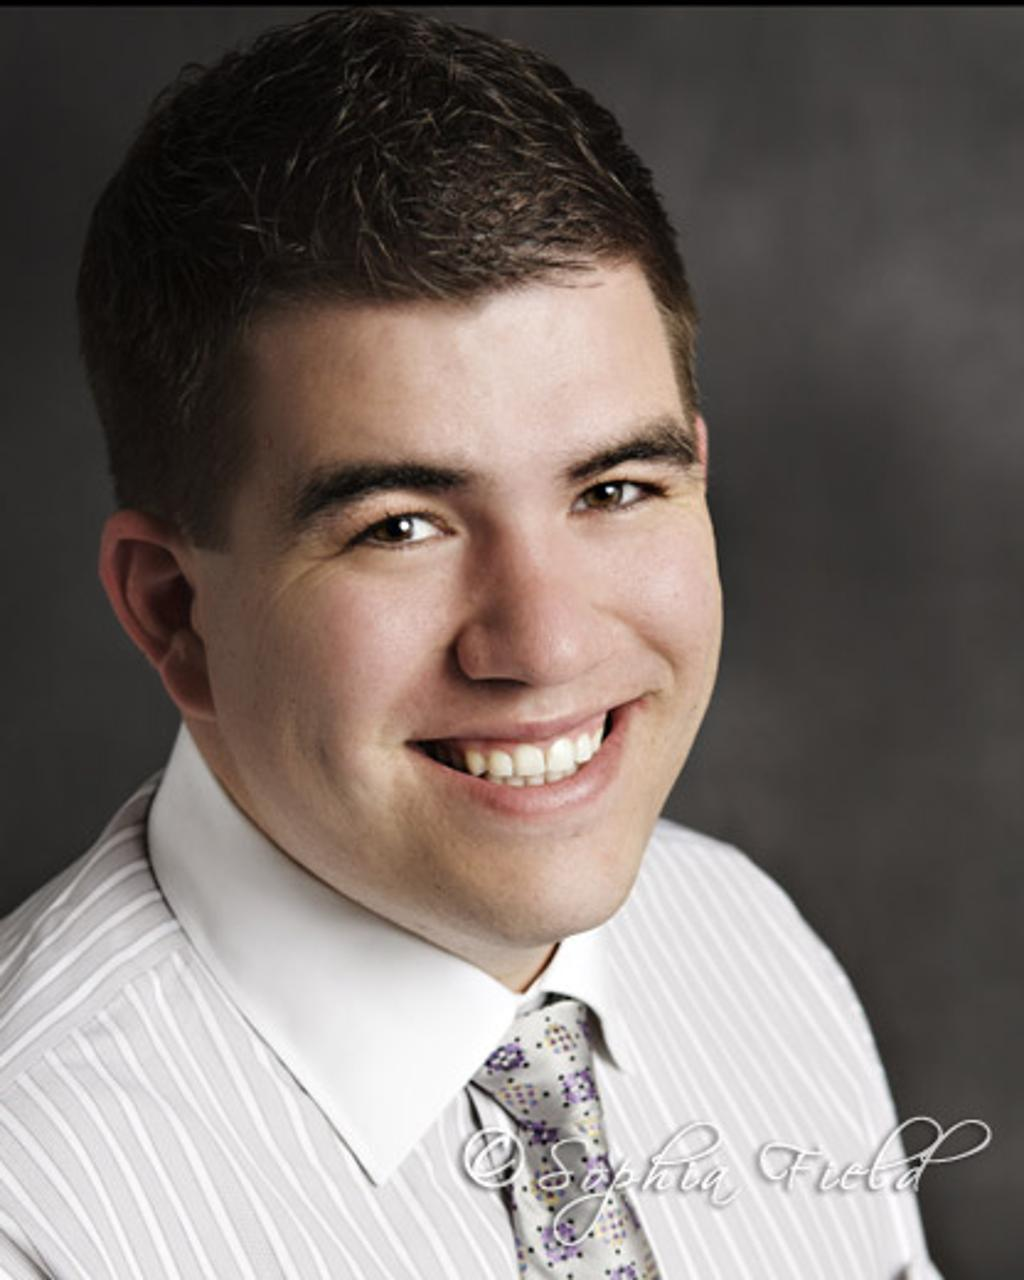face: (236, 293, 723, 937)
